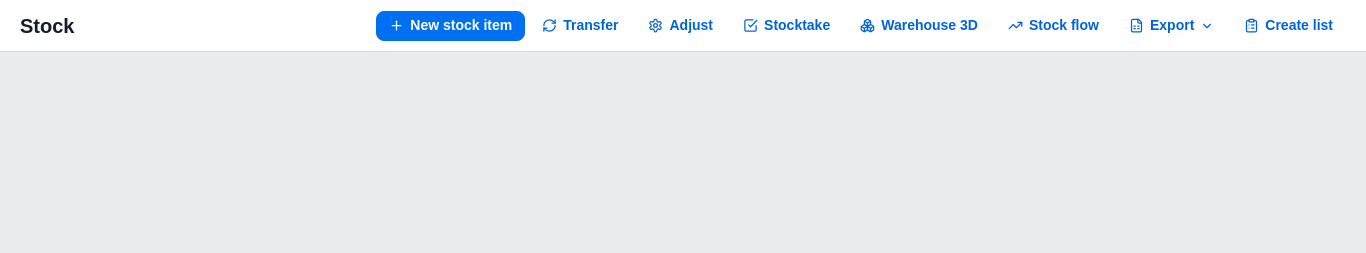
Test: ActionBar › a menu opens, runs its item and closes; Escape closes it
Click the button "Export" at (1172, 26), box [1116,10,1227,40]
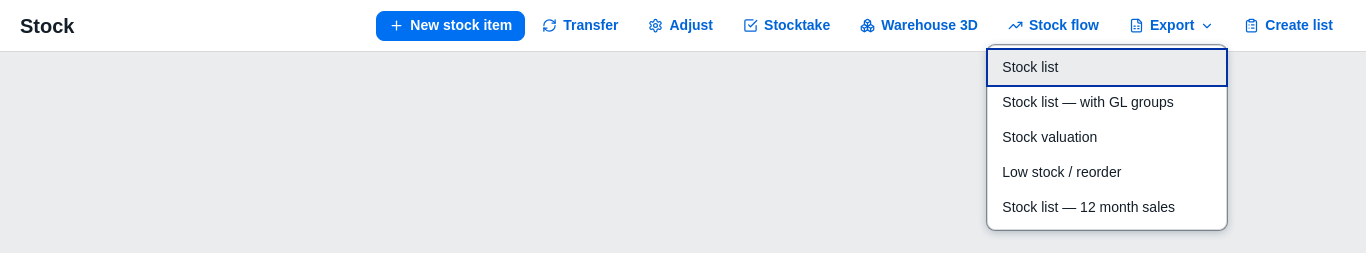
Click the menu item "Stock valuation" at (1107, 137), box [988,120,1226,154]
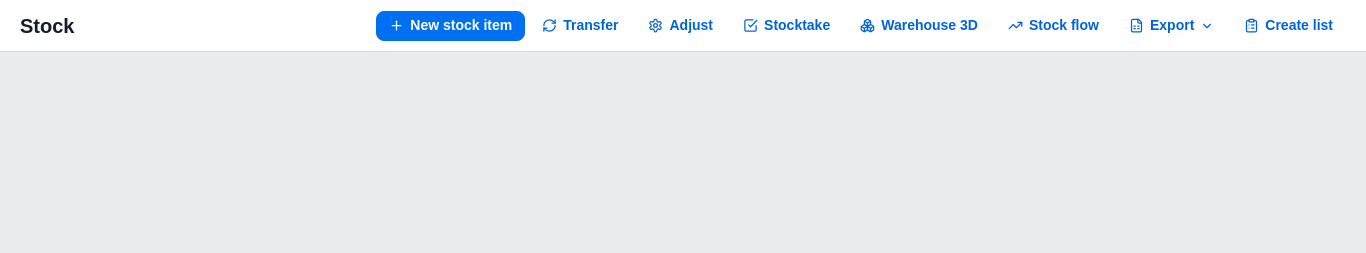
Result: the menu is gone
Click the button "Export" at (1172, 26), box [1116,10,1227,40]
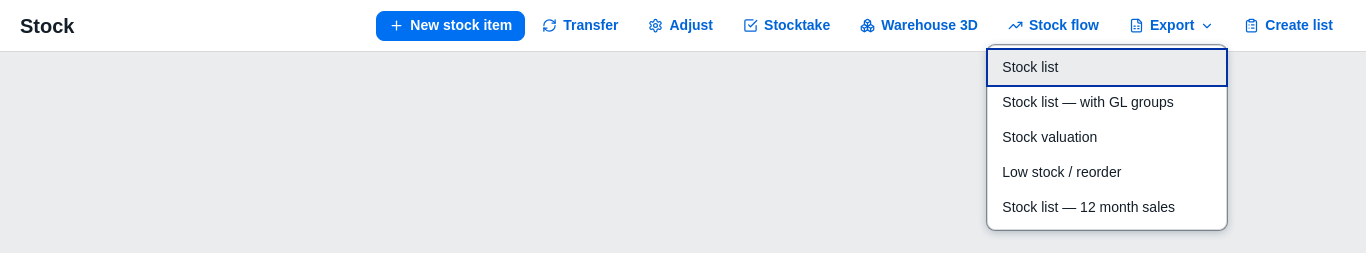
Press Escape
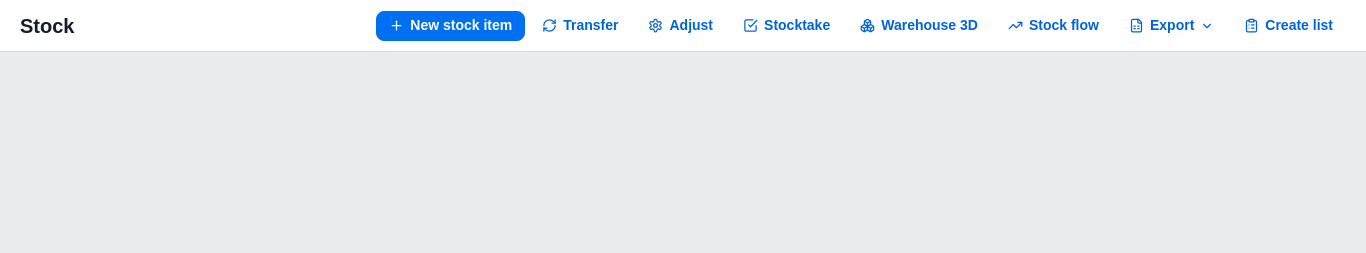
Result: the menu is gone
